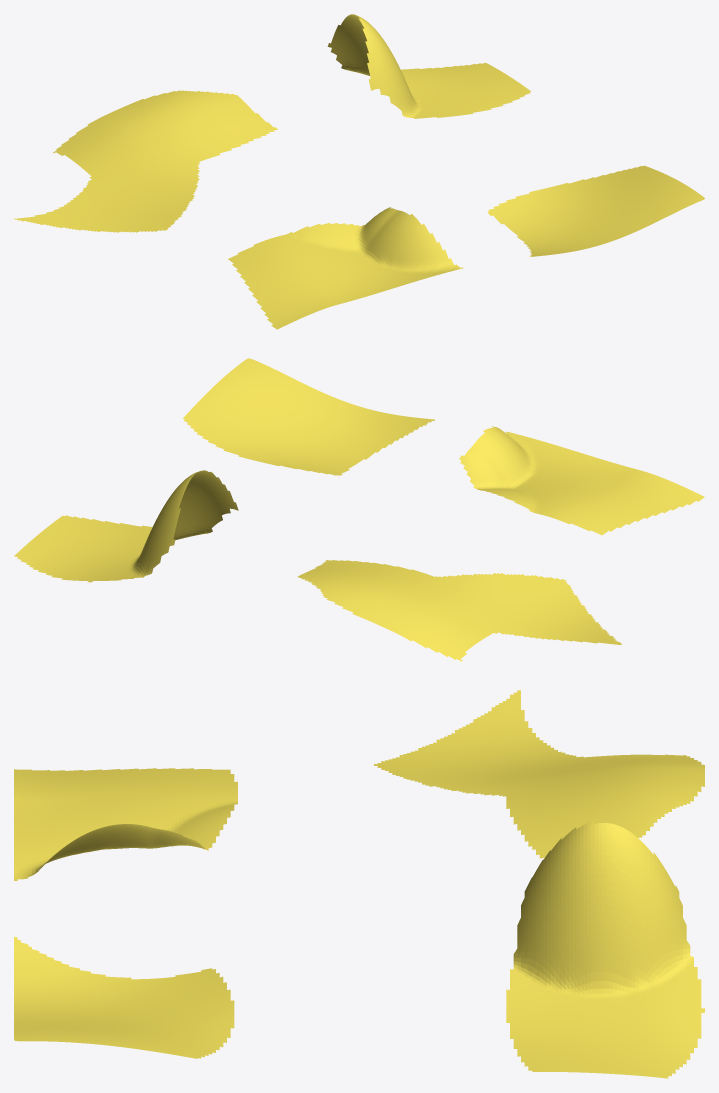
The model's file is terrain_yellow.dae.
3 views of the same model, one above another, from view 1: azimuth 30°, elevation 25°; view 2: azimuth 150°, elevation 25°; view 3: azimuth 270°, elevation 25° (orthographic). The views are drawn at different scales.
Visible parts, largest first — view 1: terrain_yellow; view 2: terrain_yellow; view 3: terrain_yellow.
Part boxes in pixels (x1,y1,x2,y2): terrain_yellow: (14,14,704,329); terrain_yellow: (14,358,704,661); terrain_yellow: (14,690,704,1078).
Size of the model in its own units: 47.45 by 36.7 by 9.1.
